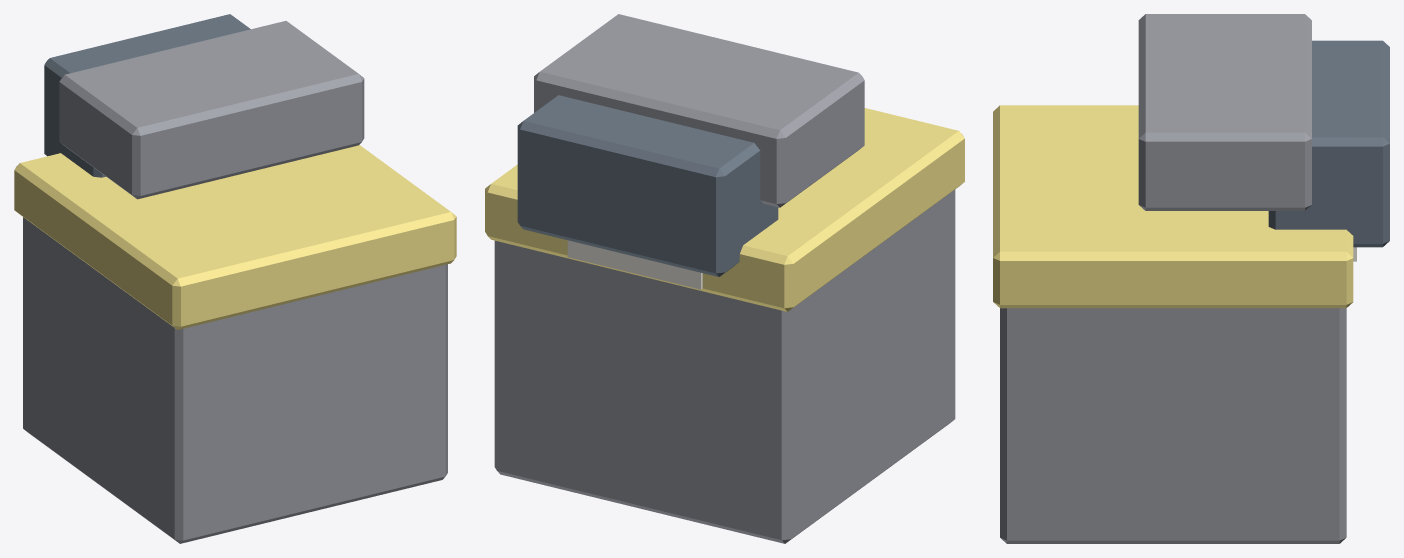
File: intake_01.glb
The picture shows the model from 3 angles, left to right: view 1: azimuth 30°, elevation 25°; view 2: azimuth 150°, elevation 25°; view 3: azimuth 270°, elevation 25°; orthographic projection. The views are drawn at different scales.
Parts seen in each view (by area): view 1: intake_01; view 2: intake_01; view 3: intake_01.
Boxes of the visible parts, bbox=[...] form: intake_01: bbox=[14, 14, 456, 543]; intake_01: bbox=[485, 14, 964, 543]; intake_01: bbox=[993, 14, 1389, 543].
Bounding box in the file's own units: 1.04 × 1.27 × 1.14.
